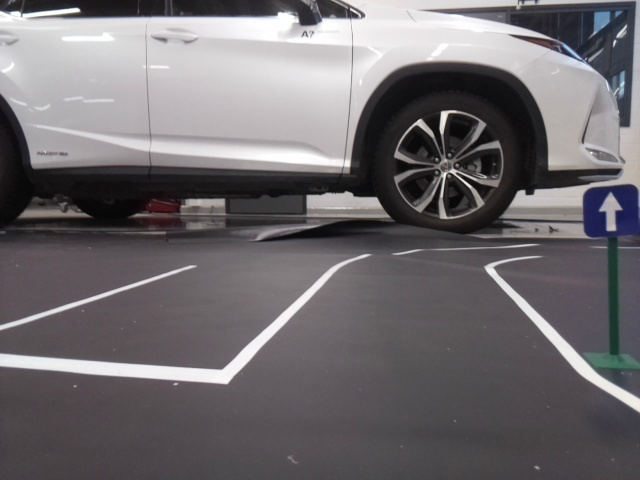OneWay: (580, 188, 638, 233)
